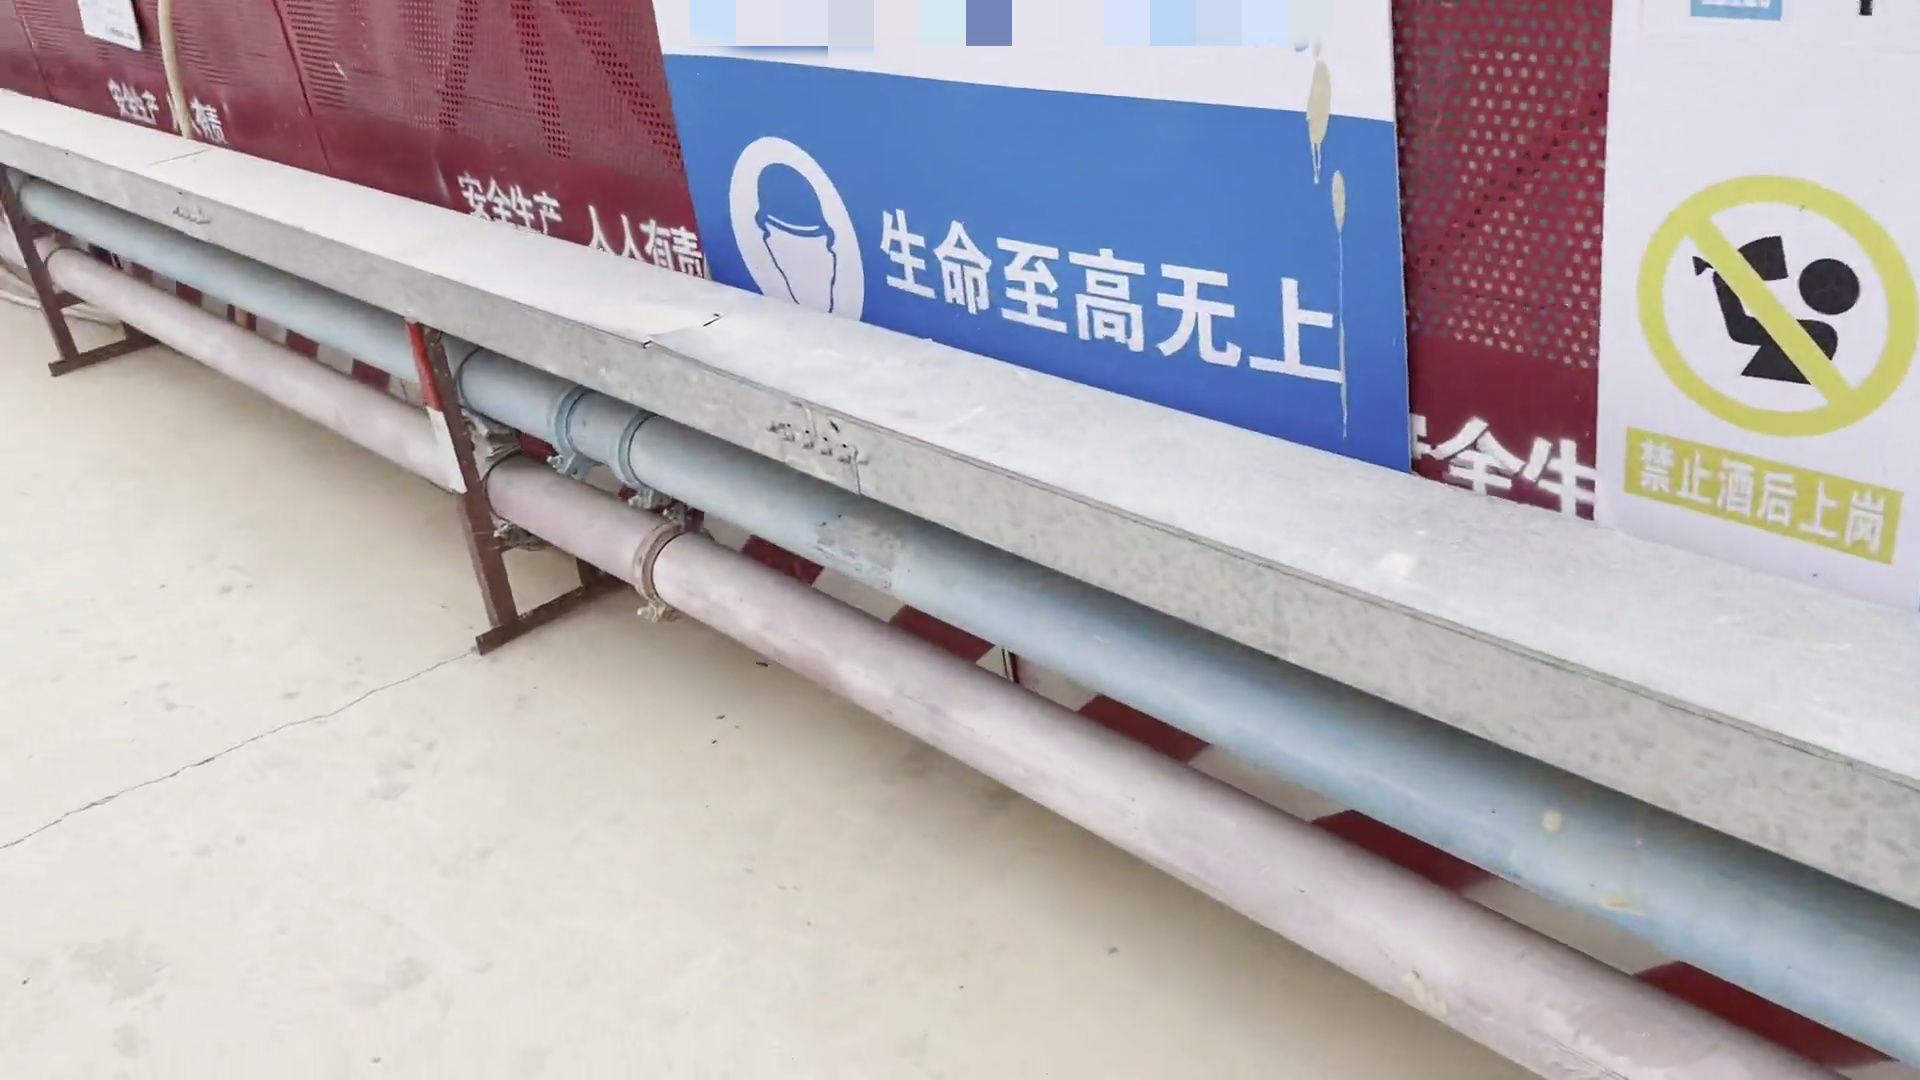fence: (1, 3, 1920, 659)
slogan: (621, 4, 1452, 502), (1553, 3, 1920, 628), (69, 4, 171, 61)
